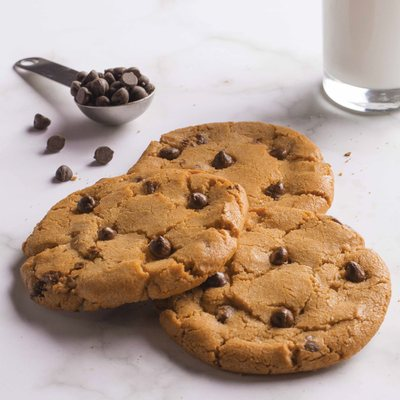sushi: (13, 56, 157, 127), (70, 65, 157, 126)
